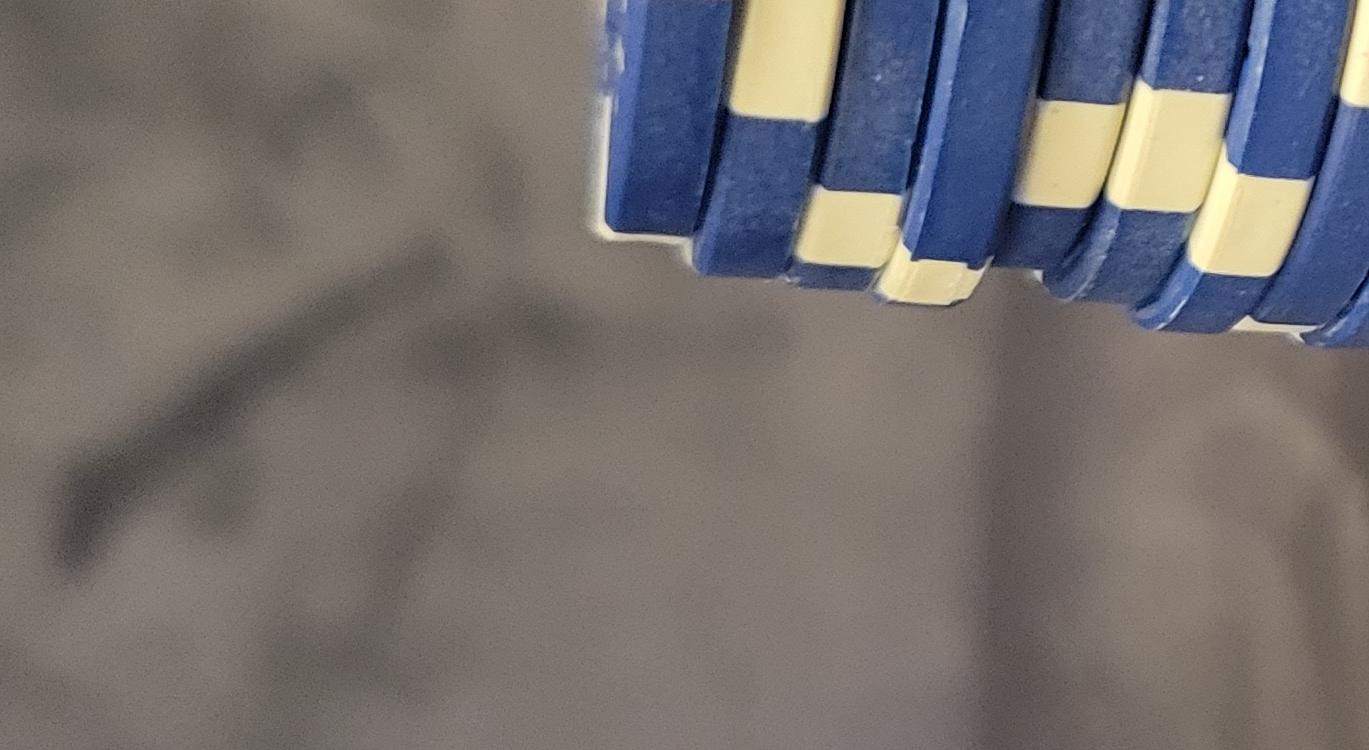Chip: (1, 436, 973, 750)
